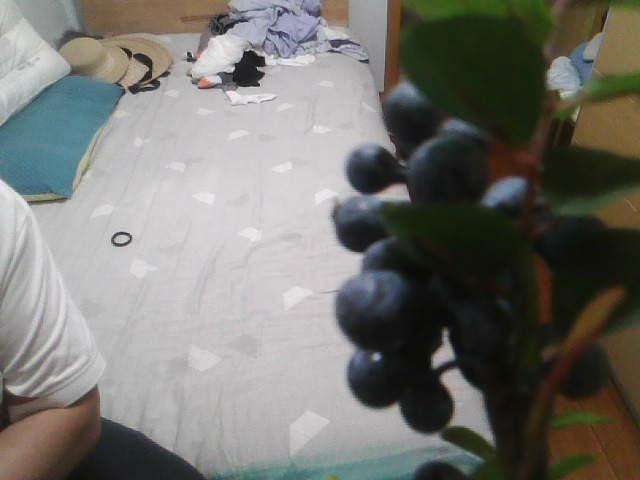blueberry: (327, 268, 445, 365), (415, 127, 485, 190), (417, 205, 470, 266), (341, 352, 391, 404), (542, 219, 592, 268), (346, 144, 398, 191), (472, 243, 518, 295), (332, 205, 380, 248), (371, 78, 411, 127), (478, 314, 520, 356), (403, 398, 449, 434)
